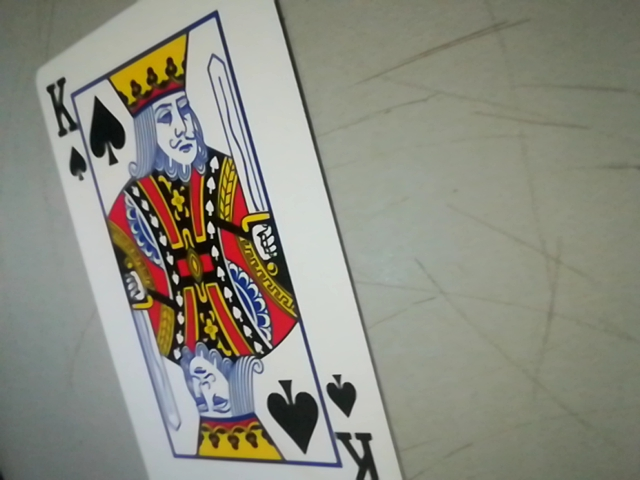ht k: (316, 365, 391, 480)
